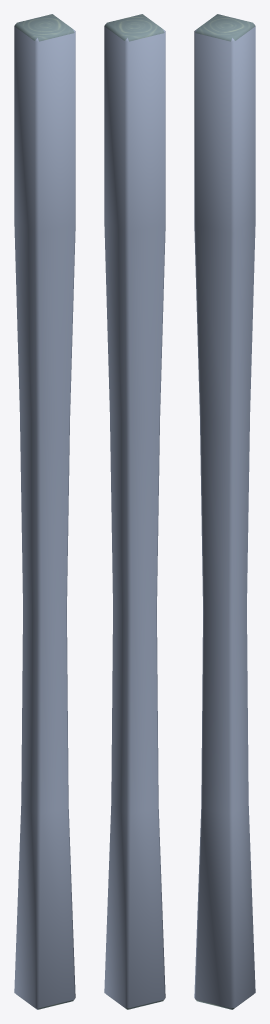
Rendered from BuildingStick.fbx.
The picture shows the model from 3 angles, left to right: view 1: azimuth 30°, elevation 25°; view 2: azimuth 210°, elevation 25°; view 3: azimuth 330°, elevation 25°; orthographic projection.
Parts seen in each view (by area): view 1: BuildingStick; view 2: BuildingStick; view 3: BuildingStick.
Boxes of the visible parts, x1,y1,x2,y2 form: BuildingStick: [14, 14, 75, 1009]; BuildingStick: [104, 14, 165, 1009]; BuildingStick: [194, 14, 255, 1009].
Bounding box in the file's own units: 0.179 × 4.06 × 0.179.
